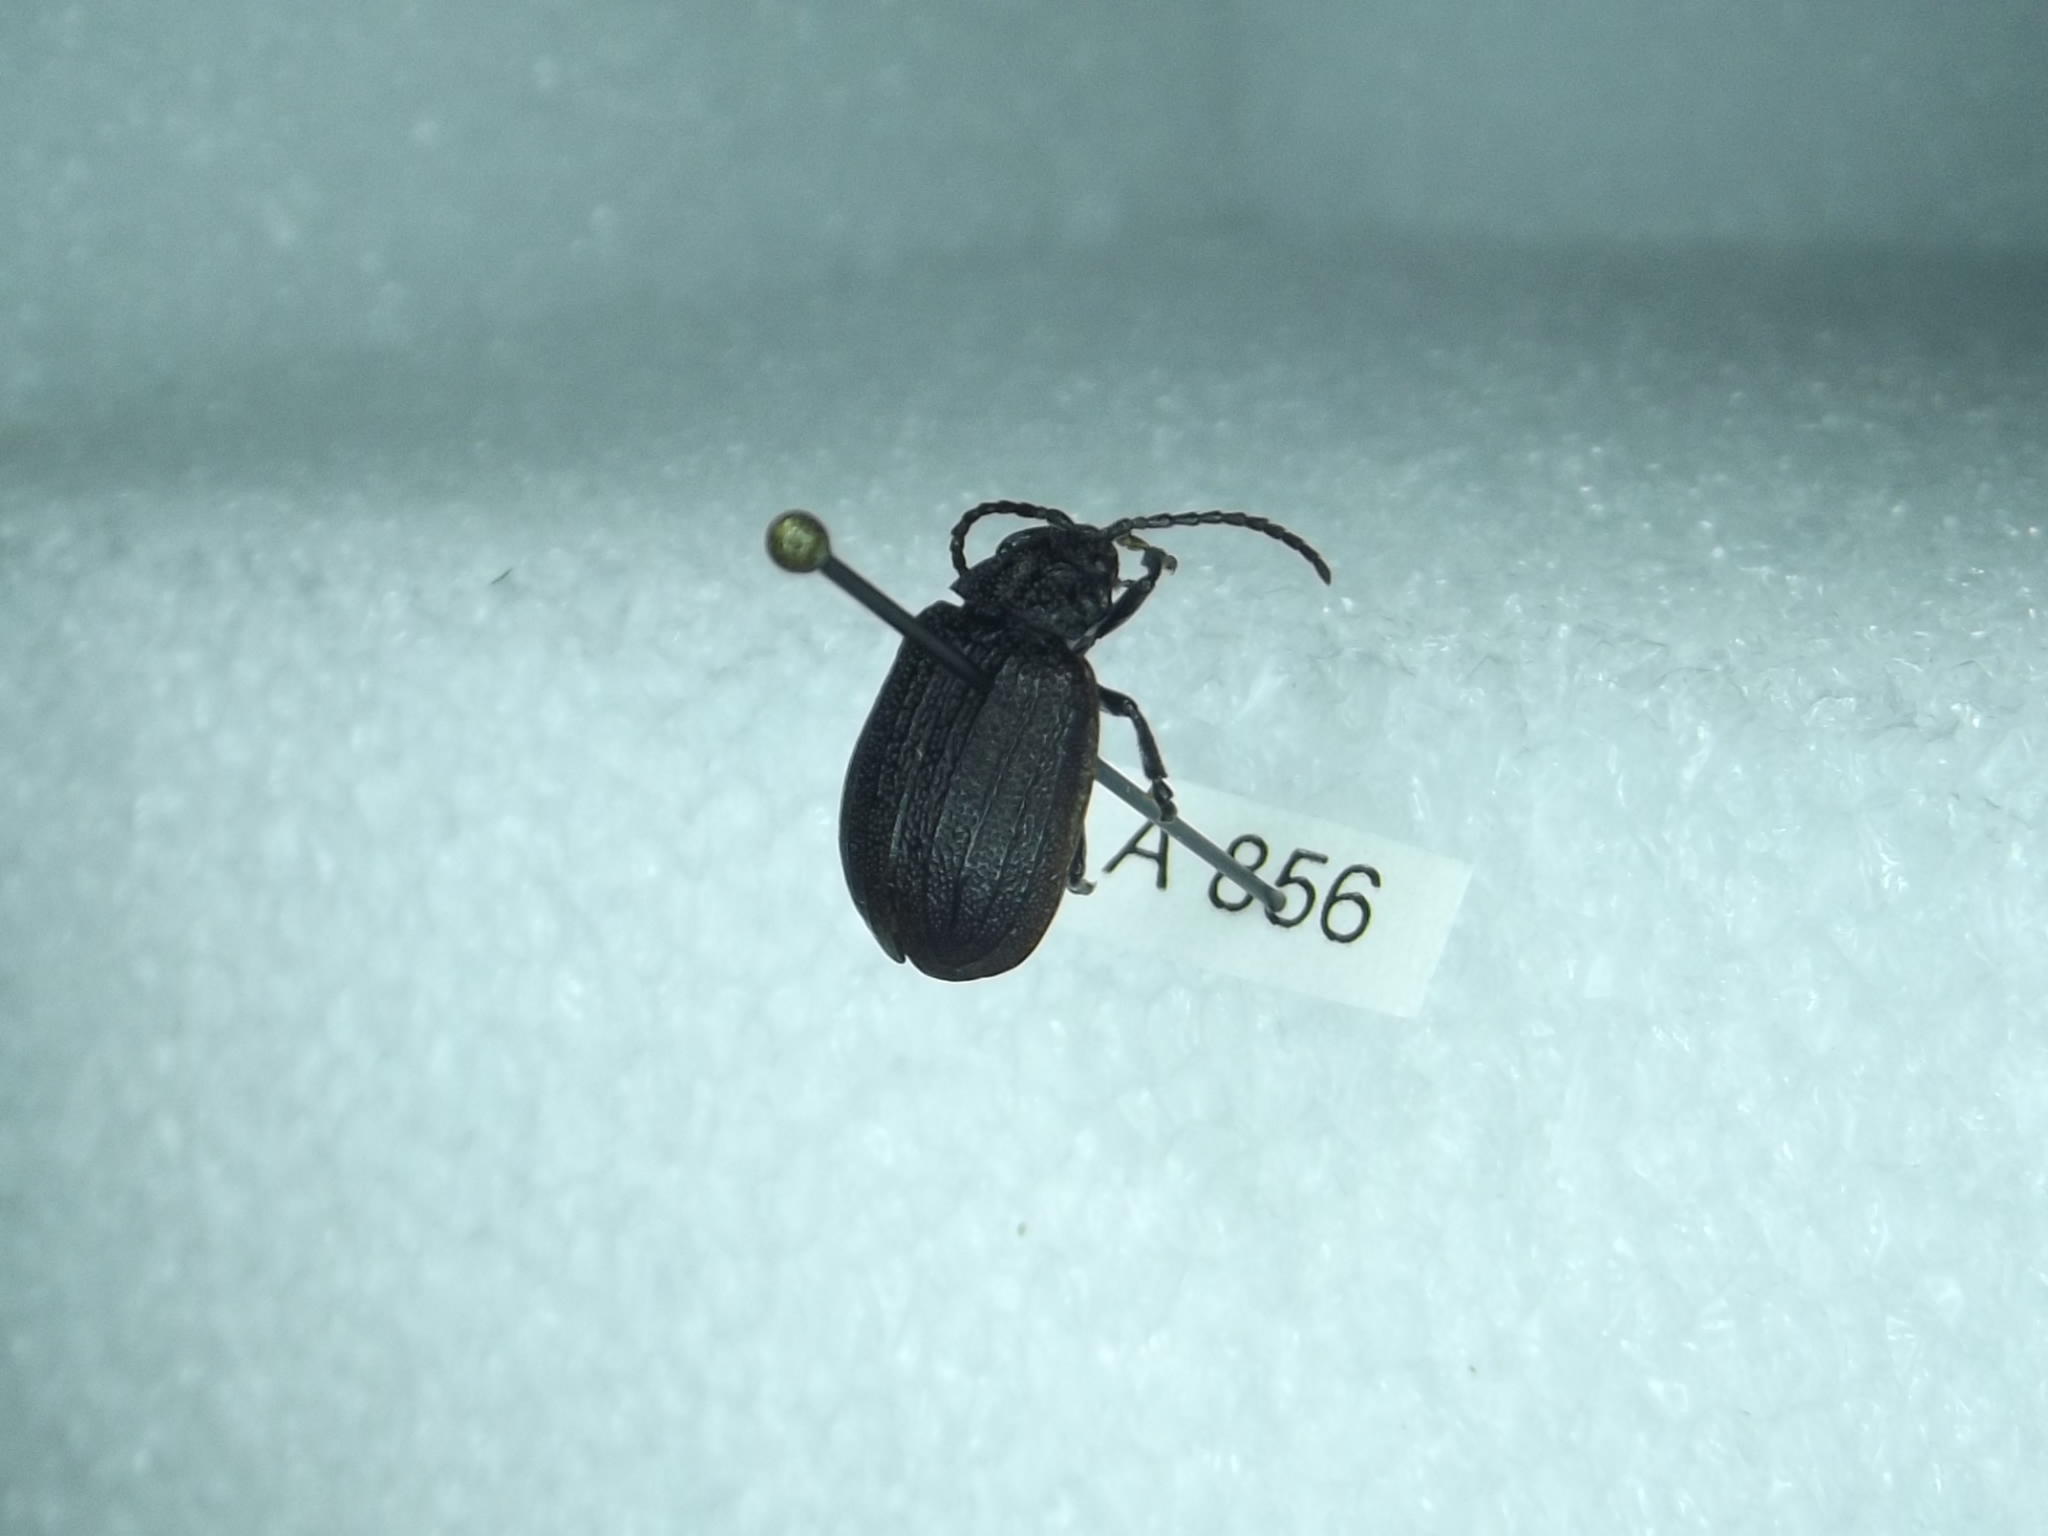Galeruca_tanaceti: (834, 482, 1337, 991)
